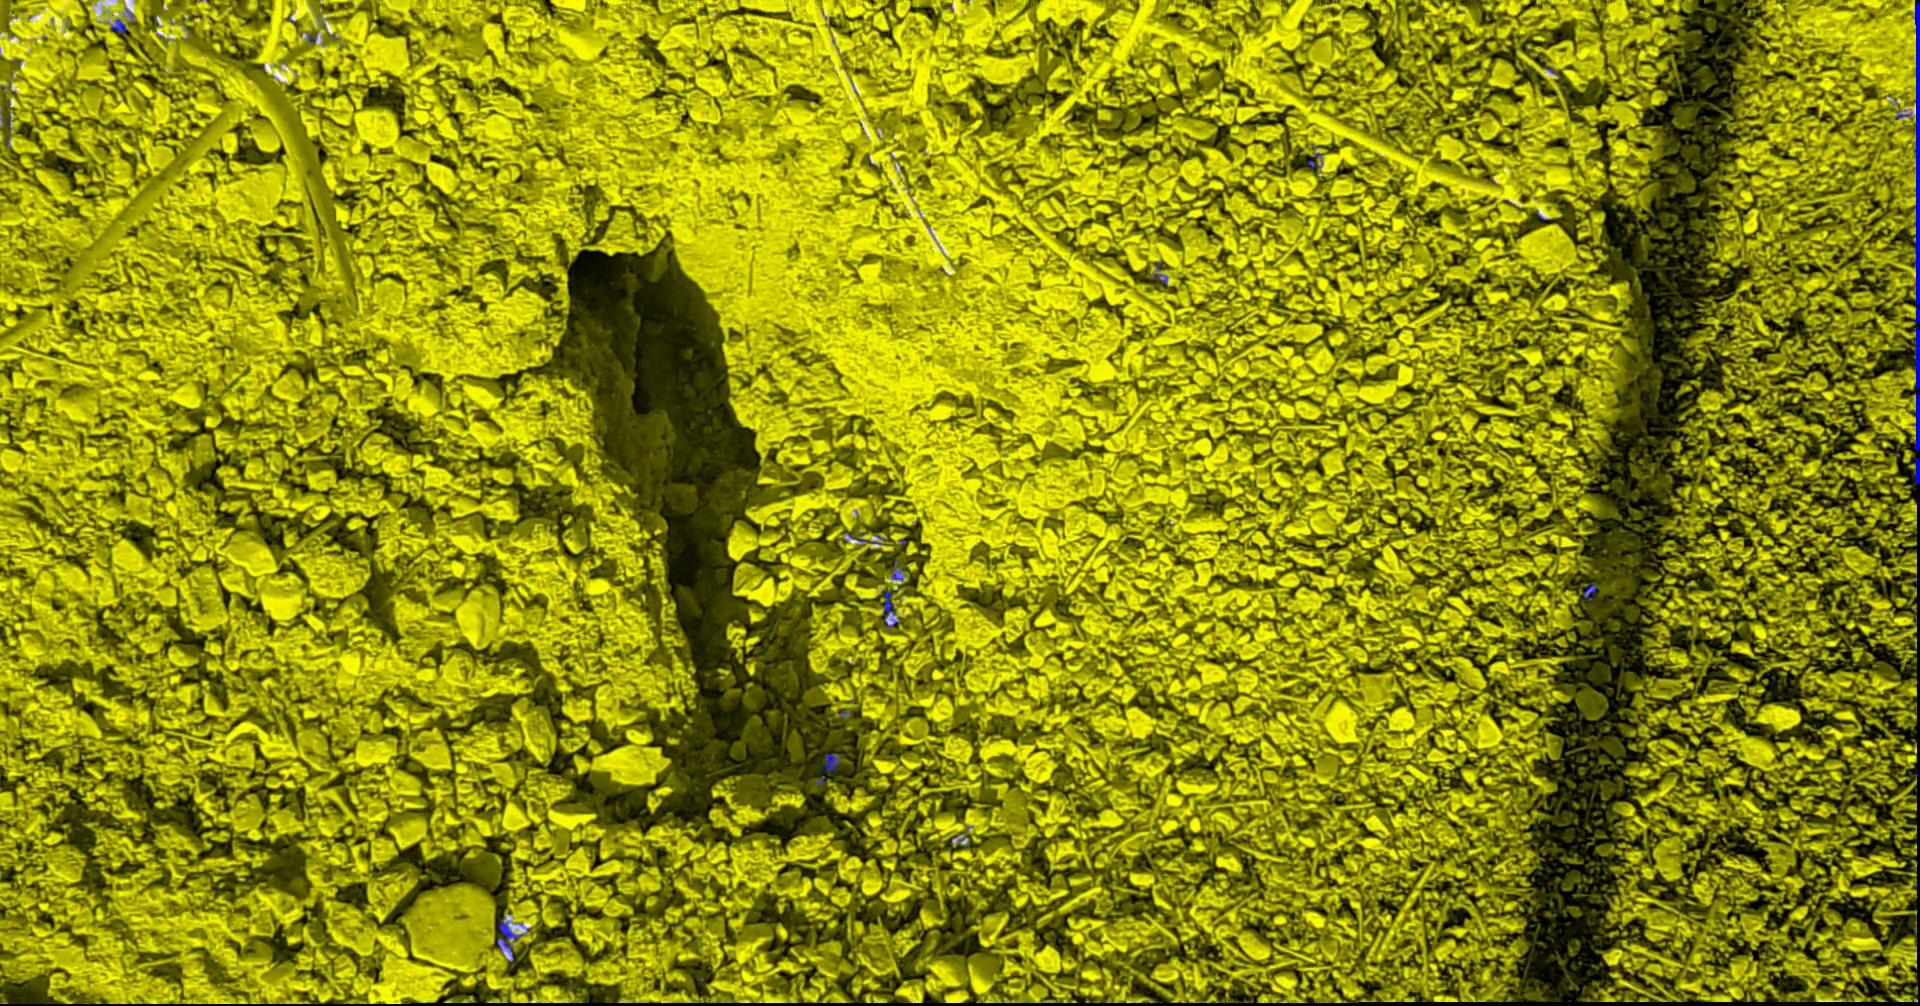ant: (495, 916, 523, 962), (815, 753, 841, 785), (881, 589, 898, 627), (848, 532, 885, 544), (1150, 260, 1167, 283), (110, 18, 127, 33), (891, 560, 903, 580), (1582, 584, 1596, 600), (1914, 457, 1919, 485)
